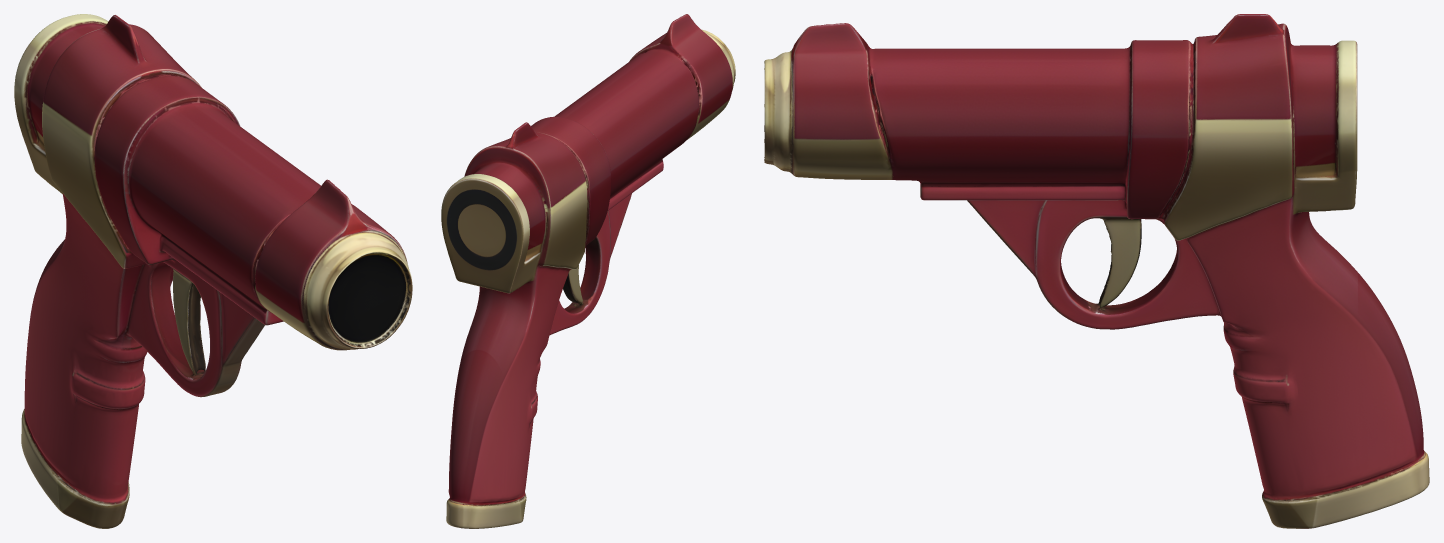
File: Ray gun 04.fbx
The picture shows the model from 3 angles, left to right: view 1: azimuth 30°, elevation 25°; view 2: azimuth 150°, elevation 25°; view 3: azimuth 270°, elevation 25°; orthographic projection. The views are drawn at different scales.
Parts seen in each view (by area): view 1: Ray gun 04; view 2: Ray gun 04; view 3: Ray gun 04.
Part boxes in pixels (bbox=[...]): Ray gun 04: bbox=[14, 14, 412, 528]; Ray gun 04: bbox=[441, 14, 735, 528]; Ray gun 04: bbox=[764, 14, 1429, 528].
Bounding box in the file's own units: 39.86 × 160 × 190.
1 material, 1 textured.
